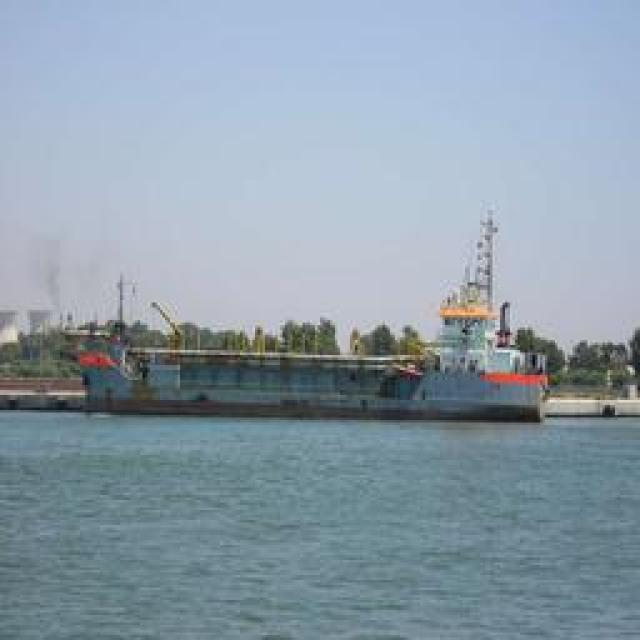CIV_Ship: (55, 254, 550, 424)
